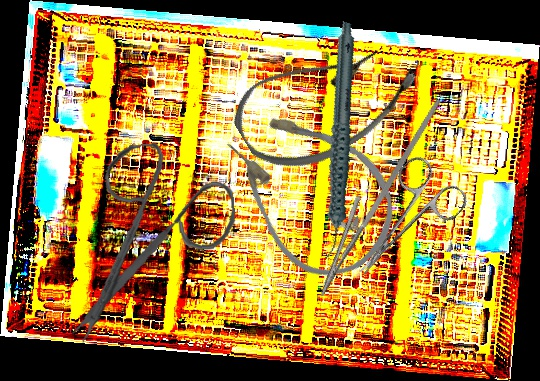Cannula: (203, 80, 419, 299), (222, 11, 429, 191)
Handpiece: (274, 21, 402, 261)
Iris Scissors: (55, 136, 246, 345), (332, 151, 472, 296)
Needle Holder: (303, 80, 442, 308)
